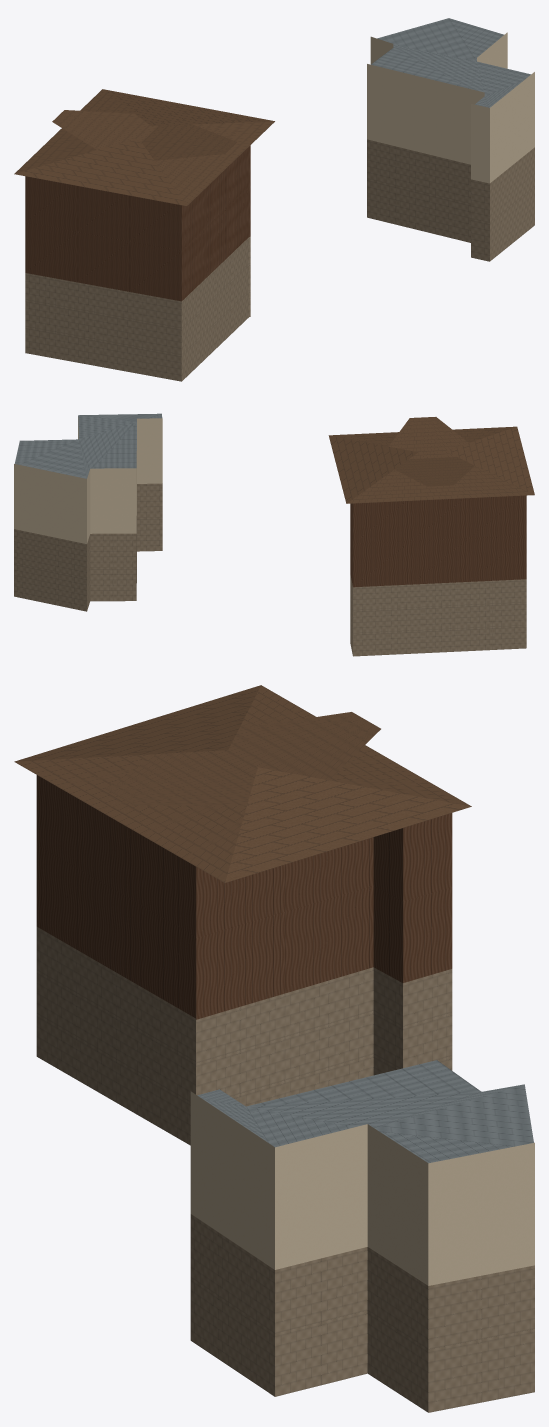
The model's file is bld_c18_29_375.gltf.
3 views of the same model, one above another, from view 1: azimuth 30°, elevation 25°; view 2: azimuth 150°, elevation 25°; view 3: azimuth 270°, elevation 25° (orthographic). The views are drawn at different scales.
Visible parts, largest first — view 1: bld_c18_29_375; view 2: bld_c18_29_375; view 3: bld_c18_29_375.
Boxes of the visible parts, x1,y1,x2,y2 form: bld_c18_29_375: (14,18,534,381); bld_c18_29_375: (14,413,534,656); bld_c18_29_375: (14,685,534,1412).
Size of the model in its own units: 36.28 by 12.6 by 18.5.
6 materials, 6 textured.
